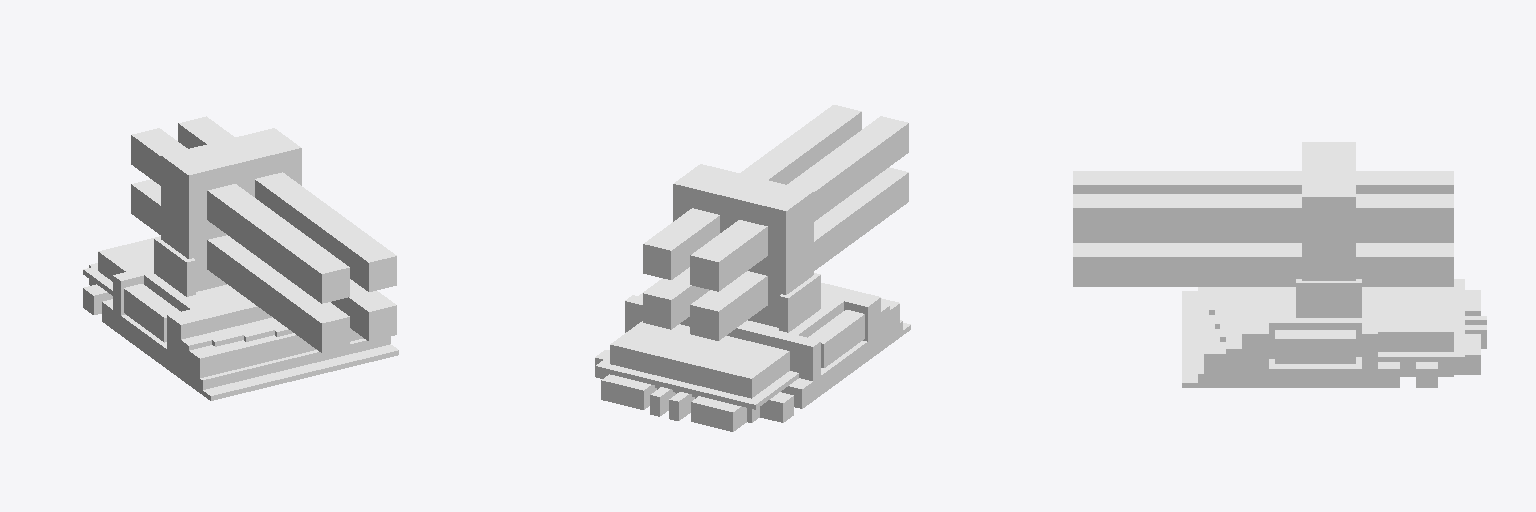
The model's file is turret.obj.
3 views of the same model, side by side, from view 1: azimuth 30°, elevation 25°; view 2: azimuth 150°, elevation 25°; view 3: azimuth 270°, elevation 25° (orthographic).
Parts seen in each view (by area): view 1: turret; view 2: turret; view 3: turret.
Part boxes in pixels (bbox=[...]): turret: bbox=[83, 116, 398, 400]; turret: bbox=[595, 105, 910, 431]; turret: bbox=[1073, 142, 1486, 387].
Size of the model in its own units: 40 by 35 by 76.